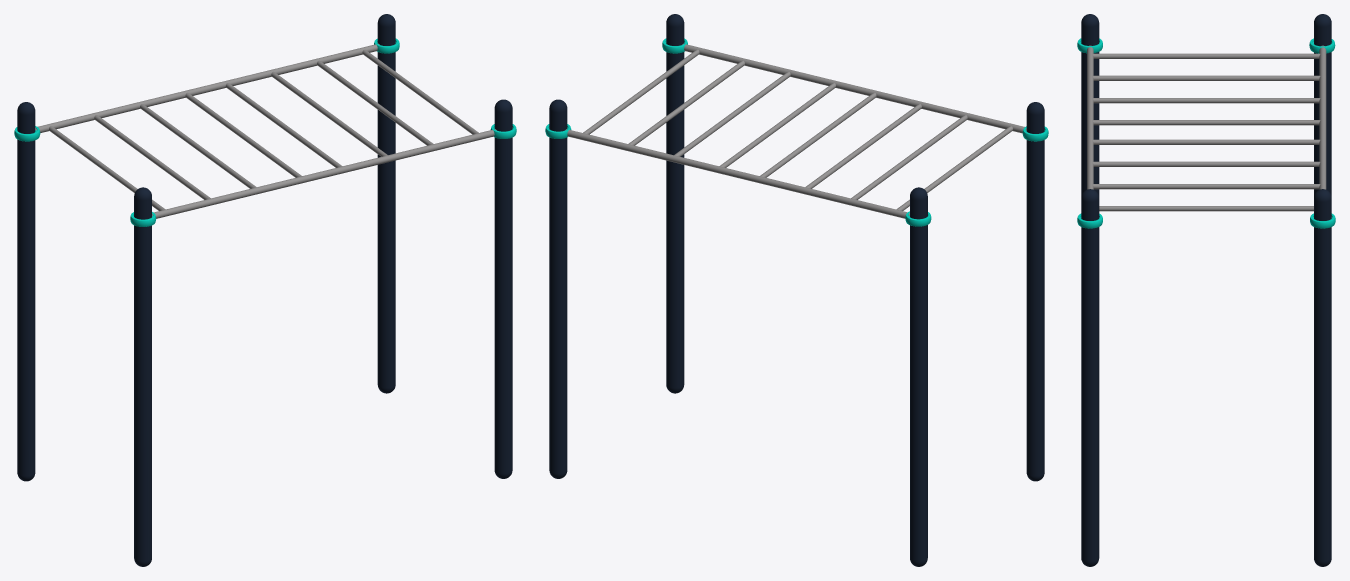
File: rukohod.gltf
3 views of the same model, side by side, from view 1: azimuth 30°, elevation 25°; view 2: azimuth 150°, elevation 25°; view 3: azimuth 270°, elevation 25° (orthographic).
Parts seen in each view (by area): view 1: 柱子4591, 柱子4592, 柱子4590, 柱子4593, Cylinder33877, Cylinder33876, Cylinder33882, Cylinder33883, Cylinder33884, Cylinder33878, Cylinder33880, Cylinder33881 (+2 smaller); view 2: 柱子4593, 柱子4590, 柱子4591, 柱子4592, Cylinder33876, Cylinder33877, Cylinder33883, Cylinder33880, Cylinder33882, Cylinder33884, Cylinder33878, Cylinder33881 (+2 smaller); view 3: 柱子4592, 柱子4593, 柱子4590, 柱子4591, Cylinder33875, Cylinder33878, Cylinder33881, Cylinder33882, Cylinder33879, Cylinder33880, Cylinder33883, Cylinder33884 (+2 smaller).
Boxes of the visible parts, <box> form: 柱子4591: <box>17,102,35,481</box>; 柱子4592: <box>494,99,512,478</box>; 柱子4590: <box>134,187,151,566</box>; 柱子4593: <box>377,14,395,393</box>; Cylinder33877: <box>152,129,496,218</box>; Cylinder33876: <box>35,43,379,132</box>; Cylinder33882: <box>271,71,387,156</box>; Cylinder33883: <box>317,60,433,145</box>; Cylinder33884: <box>362,49,478,134</box>; Cylinder33878: <box>94,115,210,199</box>; Cylinder33880: <box>185,92,301,177</box>; Cylinder33881: <box>225,83,342,167</box>; 柱子4593: <box>549,99,567,478</box>; 柱子4590: <box>1026,102,1044,481</box>; 柱子4591: <box>910,187,927,566</box>; 柱子4592: <box>666,14,684,393</box>; Cylinder33876: <box>565,129,909,218</box>; Cylinder33877: <box>682,43,1026,133</box>; Cylinder33883: <box>628,60,744,145</box>; Cylinder33880: <box>760,92,876,177</box>; Cylinder33882: <box>674,72,790,156</box>; Cylinder33884: <box>583,49,699,134</box>; Cylinder33878: <box>851,115,967,199</box>; Cylinder33881: <box>719,83,835,167</box>; 柱子4592: <box>1081,189,1099,566</box>; 柱子4593: <box>1314,189,1331,566</box>; 柱子4590: <box>1081,14,1099,196</box>; 柱子4591: <box>1314,14,1331,195</box>; Cylinder33875: <box>1092,53,1320,58</box>; Cylinder33878: <box>1092,75,1320,80</box>; Cylinder33881: <box>1092,139,1320,144</box>; Cylinder33882: <box>1092,161,1320,166</box>; Cylinder33879: <box>1092,98,1320,103</box>; Cylinder33880: <box>1092,120,1320,125</box>; Cylinder33883: <box>1092,184,1320,189</box>; Cylinder33884: <box>1099,206,1313,211</box>.
Size of the model in its own units: 2.65 by 2.5 by 1.56.
